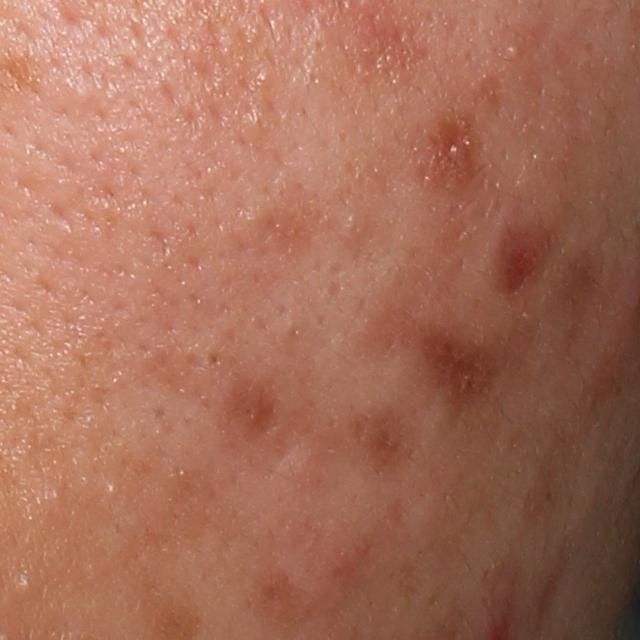comedo: (3, 565, 37, 600), (203, 347, 229, 375), (507, 43, 523, 60)
